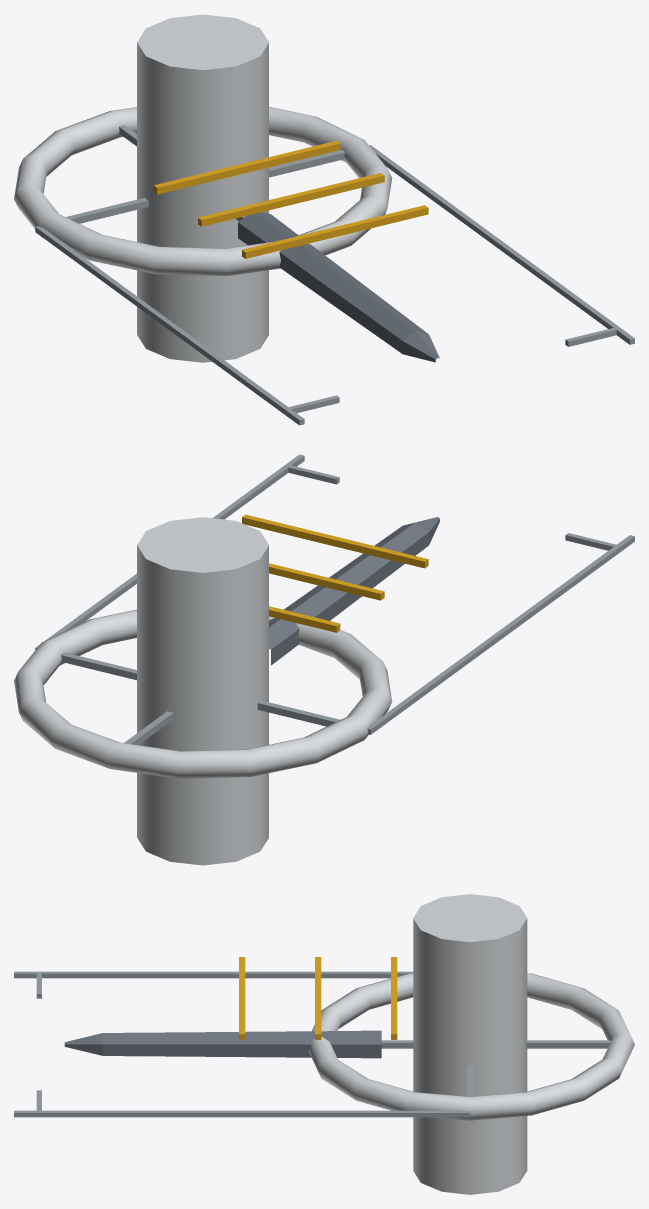
Rendered from space_orbital_shipyard_t3.glb.
The picture shows the model from 3 angles, top to bottom: view 1: azimuth 30°, elevation 25°; view 2: azimuth 150°, elevation 25°; view 3: azimuth 270°, elevation 25°; orthographic projection. The views are drawn at different scales.
Visible parts, largest first — view 1: body, ring, dock_arm_0, dock_arm_1, crane_0, crane_2, crane_1; view 2: body, ring, dock_arm_0, dock_arm_1, crane_2, crane_1, crane_0; view 3: body, ring, dock_arm_1, dock_arm_0, crane_0, crane_1, crane_2.
Boxes of the visible parts, x1,y1,x2,y2 form: body: (137,14,439,362); ring: (14,107,392,275); dock_arm_0: (35,226,339,425); dock_arm_1: (369,145,634,346); crane_0: (153,140,340,194); crane_2: (242,205,428,258); crane_1: (198,173,384,226); body: (137,517,439,865); ring: (14,609,392,778); dock_arm_0: (367,533,634,734); dock_arm_1: (35,454,339,649); crane_2: (242,514,428,568); crane_1: (269,563,384,600); crane_0: (269,606,340,632); body: (64,894,527,1194); ring: (308,973,634,1120); dock_arm_1: (14,1090,470,1117); dock_arm_0: (14,971,413,998); crane_0: (391,957,397,1039); crane_1: (315,957,321,1039); crane_2: (239,957,245,1039).
Size of what is drawn, in the model's own units: 26.4 by 22 by 49.
